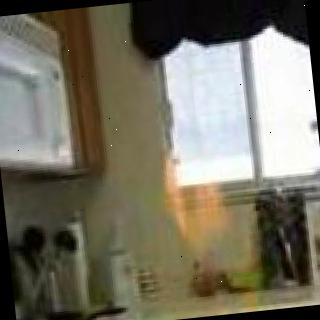fire: (149, 133, 250, 260), (124, 306, 273, 320)
